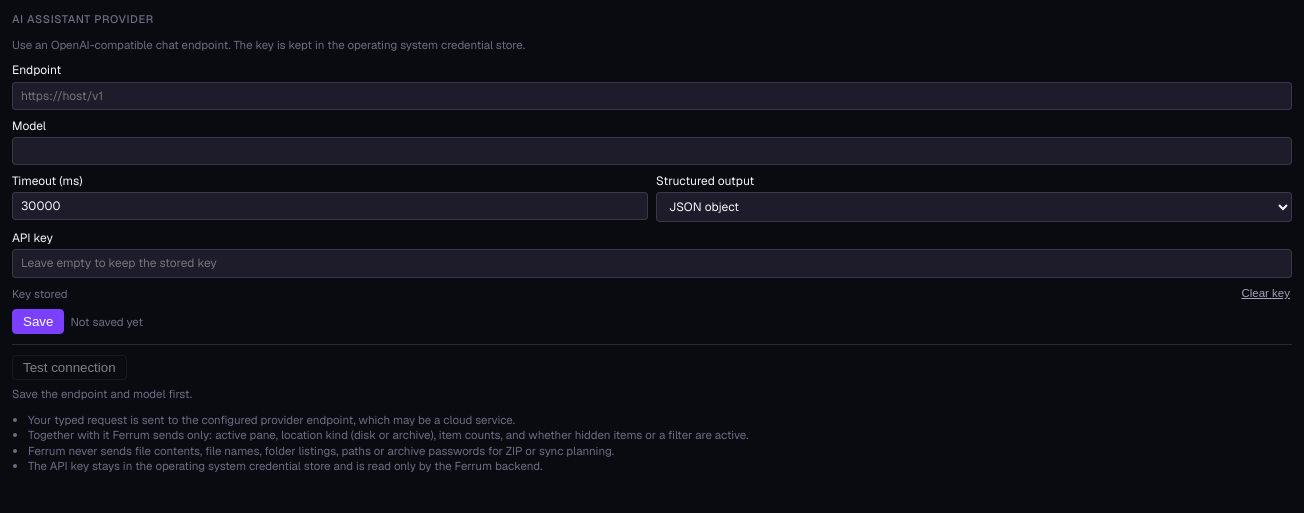
Test: AiSettings (FER-412, order FER-429) › clears the stored key
This screenshot has width=1304, height=513.
Click the button "Clear key" at (1266,293), box [1239,287,1292,299]
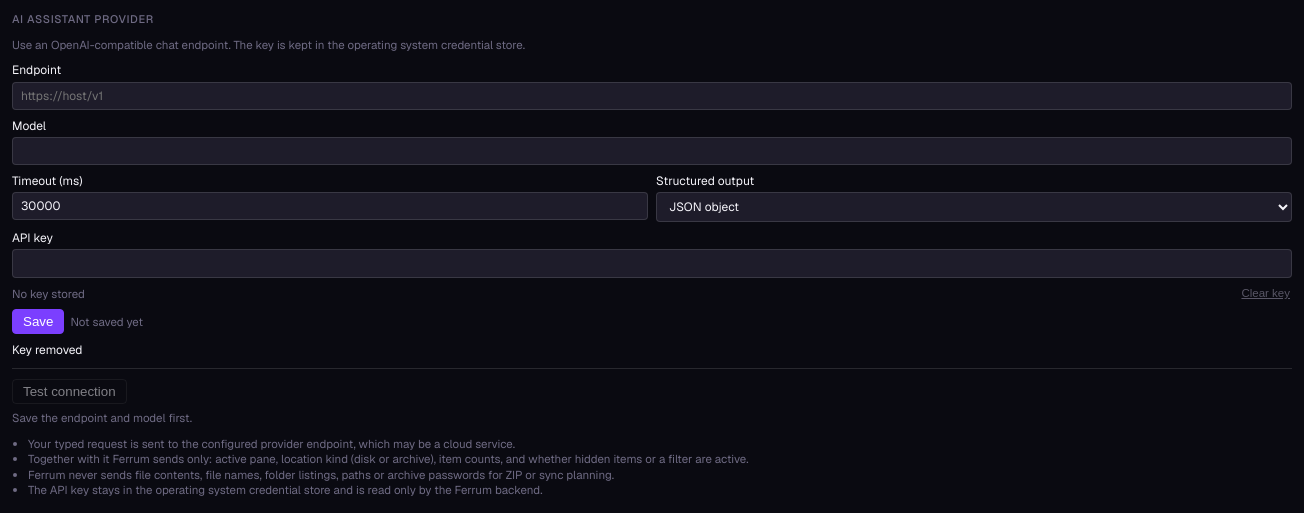
Result: the message named "Key status" reads "No key stored" at [12,286,85,301]
